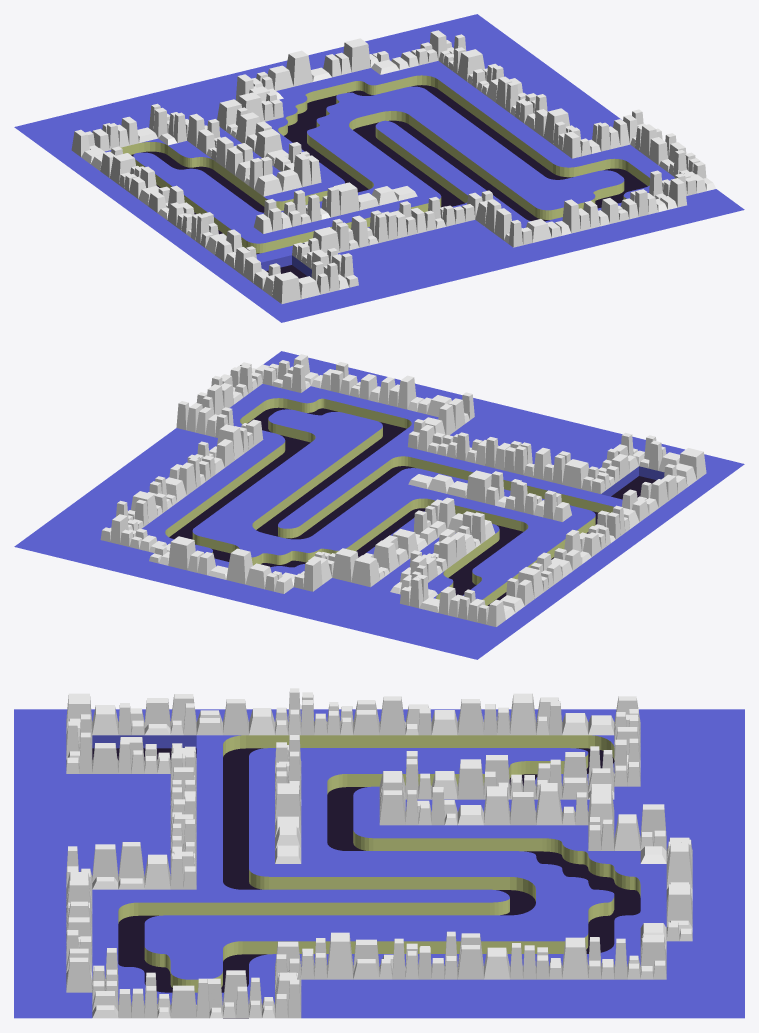
The model's file is M_track_3.glb.
The picture shows the model from 3 angles, top to bottom: view 1: azimuth 30°, elevation 25°; view 2: azimuth 150°, elevation 25°; view 3: azimuth 270°, elevation 25°; orthographic projection. The views are drawn at different scales.
Visible parts, largest first — view 1: Plane, discombobulated_mesh.001, Plane.001, discombobulated_mesh; view 2: Plane, discombobulated_mesh.001, Plane.001, discombobulated_mesh; view 3: Plane, discombobulated_mesh.001, Plane.001, discombobulated_mesh.
Part boxes in pixels (x1,y1,x2,y2): Plane: [14, 14, 744, 322]; discombobulated_mesh.001: [71, 30, 715, 303]; Plane.001: [131, 85, 647, 278]; discombobulated_mesh: [254, 182, 417, 233]; Plane: [14, 351, 744, 659]; discombobulated_mesh.001: [100, 354, 706, 626]; Plane.001: [169, 407, 656, 605]; discombobulated_mesh: [408, 470, 571, 521]; Plane: [14, 709, 744, 1018]; discombobulated_mesh.001: [66, 688, 692, 1018]; Plane.001: [92, 748, 640, 1018]; discombobulated_mesh: [275, 735, 301, 863].
Bounding box in the file's own units: 10 × 0.7488 × 10.
